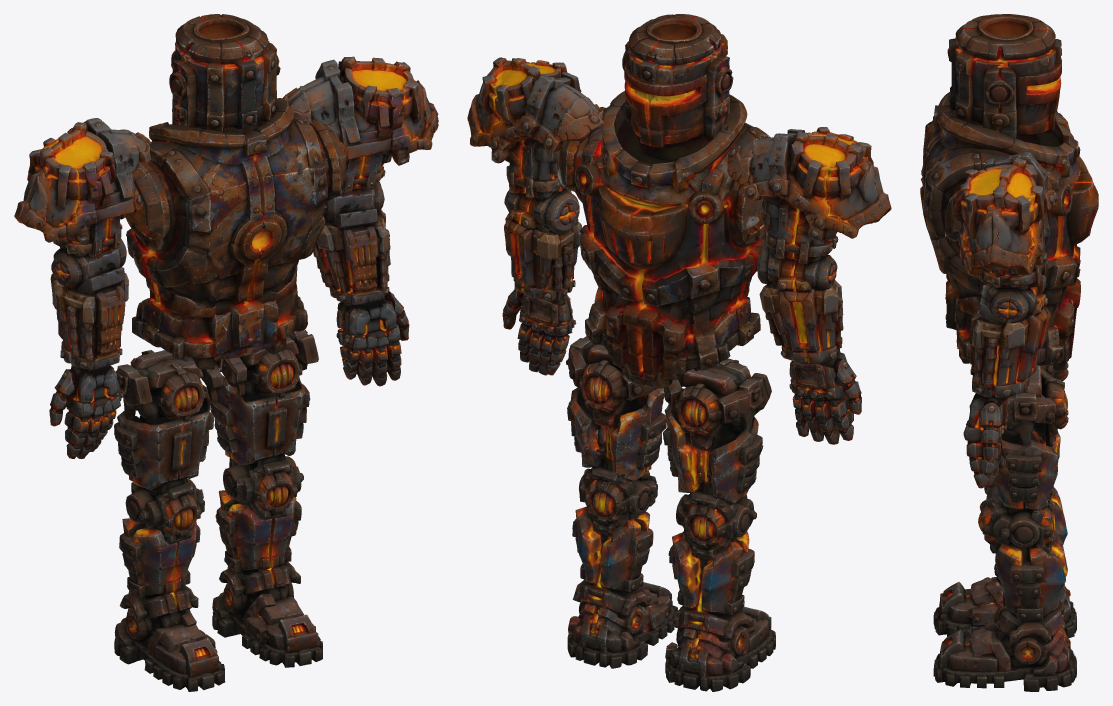
Rendered from Gear_T08.glb.
3 views of the same model, side by side, from view 1: azimuth 30°, elevation 25°; view 2: azimuth 150°, elevation 25°; view 3: azimuth 270°, elevation 25° (orthographic).
Visible parts, largest first — view 1: Torso_Upper, ArmL_Upper, ArmR_Upper, Head, LegL_Upper, LegR_Upper, LegR_Foot, LegR_Lower, ArmL_Lower, LegL_Foot, LegL_Lower, ArmR_Lower (+3 smaller); view 2: Torso_Upper, ArmL_Upper, ArmR_Upper, LegL_Upper, Head, LegR_Upper, LegL_Lower, LegR_Lower, LegL_Foot, ArmL_Lower, LegR_Foot, ArmR_Lower (+3 smaller); view 3: Torso_Upper, Head, ArmR_Upper, LegR_Foot, LegR_Upper, LegR_Lower, ArmR_Lower, LegL_Foot, ArmR_Hand, LegL_Lower, Torso_Lower.
Part boxes in pixels (left/top/right/bottom): Torso_Upper: left=125, top=98, right=347, bottom=360; ArmL_Upper: left=14, top=118, right=151, bottom=265; ArmR_Upper: left=282, top=56, right=438, bottom=202; Head: left=169, top=14, right=290, bottom=139; LegL_Upper: left=114, top=350, right=226, bottom=498; LegR_Upper: left=210, top=329, right=318, bottom=474; LegR_Foot: left=212, top=560, right=322, bottom=667; LegR_Lower: left=215, top=456, right=303, bottom=574; ArmL_Lower: left=50, top=247, right=128, bottom=380; LegL_Foot: left=114, top=581, right=225, bottom=691; LegL_Lower: left=119, top=479, right=204, bottom=598; ArmR_Lower: left=313, top=189, right=395, bottom=310; Torso_Upper: left=557, top=92, right=770, bottom=365; ArmL_Upper: left=727, top=127, right=891, bottom=271; ArmR_Upper: left=467, top=57, right=603, bottom=213; LegL_Upper: left=663, top=358, right=771, bottom=507; Head: left=622, top=14, right=743, bottom=131; LegR_Upper: left=566, top=335, right=666, bottom=484; LegL_Lower: left=668, top=494, right=756, bottom=617; LegR_Lower: left=572, top=470, right=657, bottom=592; LegL_Foot: left=665, top=604, right=775, bottom=691; ArmL_Lower: left=757, top=258, right=848, bottom=368; LegR_Foot: left=567, top=577, right=677, bottom=668; ArmR_Lower: left=504, top=191, right=581, bottom=301; Torso_Upper: left=920, top=92, right=1098, bottom=362; Head: left=942, top=14, right=1061, bottom=137; ArmR_Upper: left=952, top=152, right=1057, bottom=301; LegR_Foot: left=933, top=600, right=1076, bottom=691; LegR_Upper: left=975, top=365, right=1068, bottom=512; LegR_Lower: left=978, top=500, right=1067, bottom=619; ArmR_Lower: left=969, top=280, right=1050, bottom=410; LegL_Foot: left=933, top=564, right=1076, bottom=638; ArmR_Hand: left=963, top=393, right=1010, bottom=488; LegL_Lower: left=984, top=479, right=1067, bottom=544; Torso_Lower: left=956, top=331, right=1074, bottom=372.
Size of the model in its own units: 4.4 by 6.25 by 1.62.
3 materials, 3 textured.
